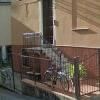stairs: (41, 47, 76, 74)
